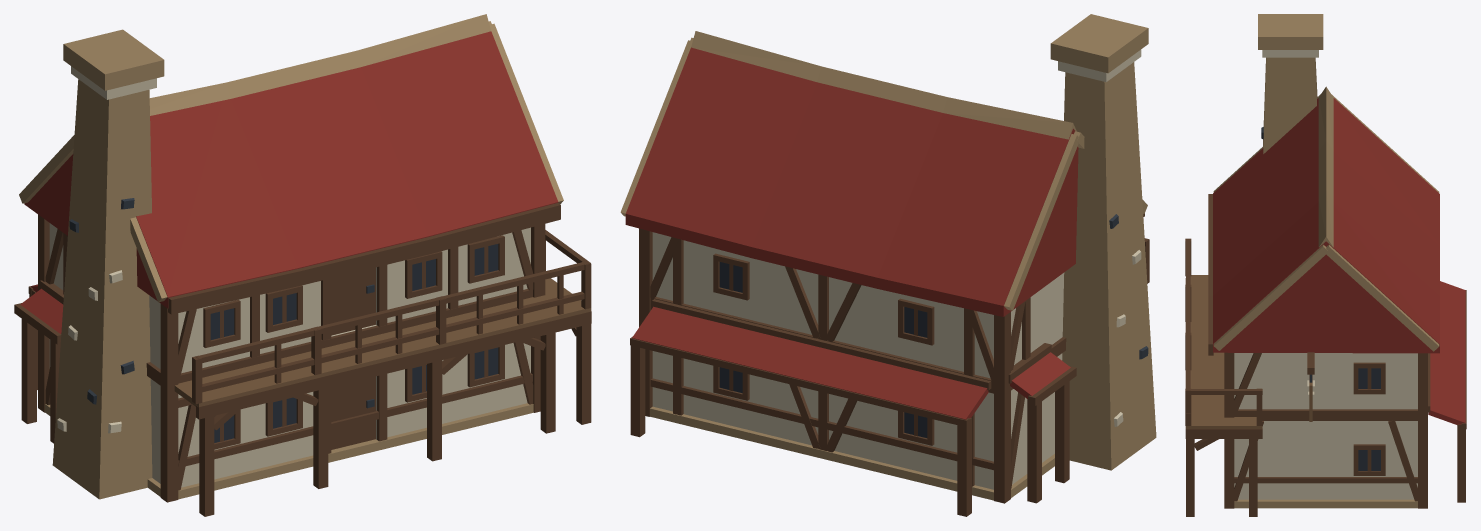
File: village-tavern-4e94e3-preview.glb
3 renders of one model, left to right at view 1: azimuth 30°, elevation 25°; view 2: azimuth 150°, elevation 25°; view 3: azimuth 270°, elevation 25°, orthographic. The views are drawn at different scales.
Size of the model in its own units: 12.91 by 11 by 8.41.
